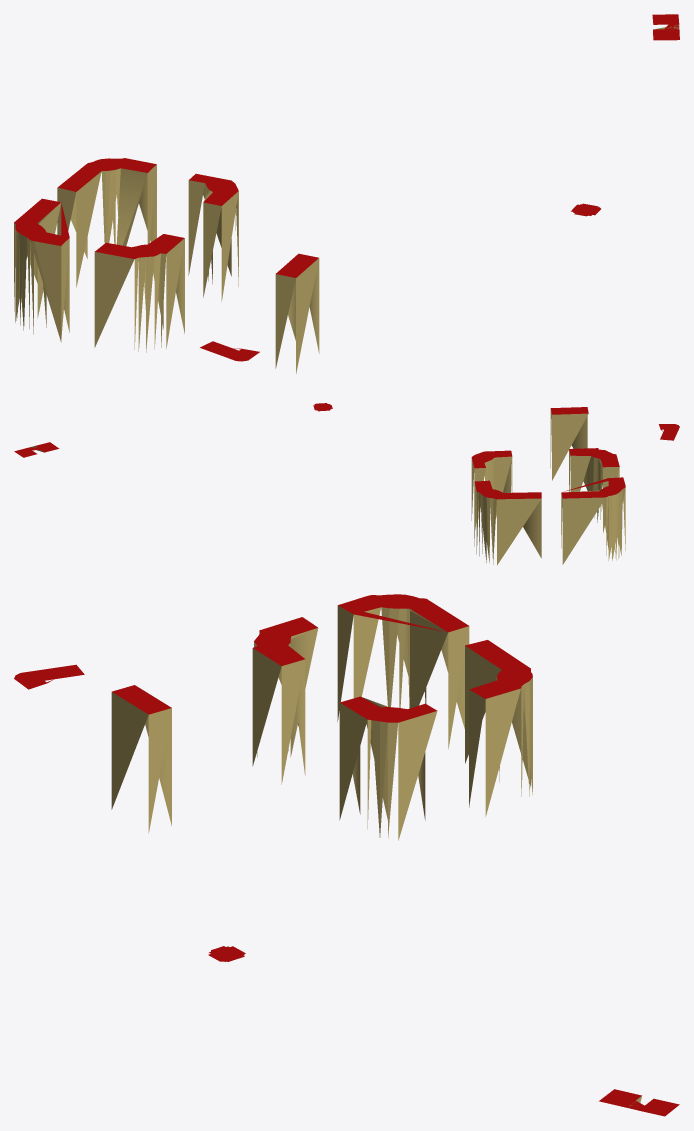
3 views of the same model, one above another, from view 1: azimuth 30°, elevation 25°; view 2: azimuth 150°, elevation 25°; view 3: azimuth 270°, elevation 25° (orthographic). The views are drawn at different scales.
Bounding box in the file's own units: 1124 × 135 × 684.
